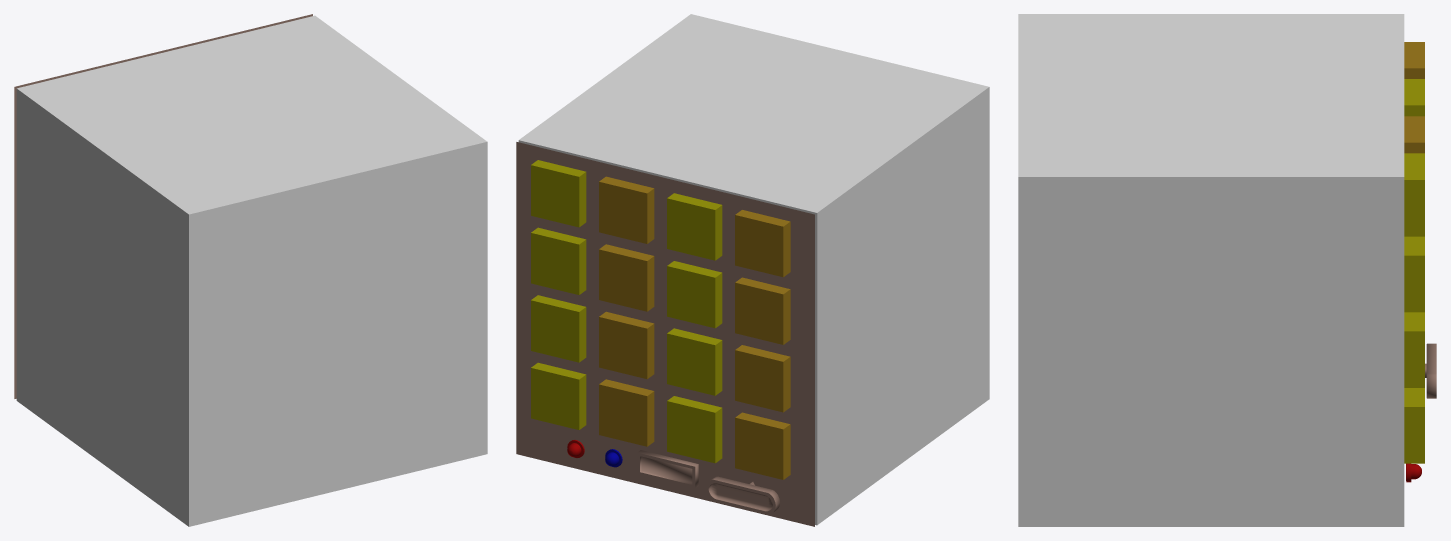
Rendered from Pipe Puzzle_P1 Box_02.FBX.
3 views of the same model, side by side, from view 1: azimuth 30°, elevation 25°; view 2: azimuth 150°, elevation 25°; view 3: azimuth 270°, elevation 25° (orthographic). The views are drawn at different scales.
Visible parts, largest first — view 1: Box Size001, Puzzle Plane 002; view 2: Box Size001, Puzzle Plane 002, pipe button 07, pipe button 12, pipe button 06, pipe button 10, pipe button 02, pipe button 14, pipe button 15, pipe button 01, pipe button 03, pipe button 04 (+8 smaller); view 3: Box Size001, pipe button 04, pipe button 03, pipe button 01, pipe button 02, pipe button 08, pipe button 12, pipe button 16, SOLVE 001.
Part boxes in pixels (left/top/right/bottom): Box Size001: left=16, top=15, right=487, bottom=526; Puzzle Plane 002: left=14, top=14, right=312, bottom=398; Box Size001: left=518, top=14, right=989, bottom=525; Puzzle Plane 002: left=516, top=142, right=814, bottom=526; pipe button 07: left=599, top=244, right=654, bottom=311; pipe button 12: left=667, top=193, right=722, bottom=260; pipe button 06: left=599, top=311, right=654, bottom=379; pipe button 10: left=667, top=328, right=722, bottom=395; pipe button 02: left=531, top=295, right=586, bottom=362; pipe button 14: left=735, top=345, right=790, bottom=412; pipe button 15: left=735, top=277, right=790, bottom=344; pipe button 01: left=531, top=362, right=586, bottom=429; pipe button 03: left=531, top=227, right=586, bottom=294; pipe button 04: left=531, top=160, right=586, bottom=227; Box Size001: left=1018, top=14, right=1404, bottom=526; pipe button 04: left=1404, top=153, right=1424, bottom=236; pipe button 03: left=1404, top=236, right=1424, bottom=312; pipe button 01: left=1404, top=388, right=1424, bottom=463; pipe button 02: left=1404, top=312, right=1424, bottom=387; pipe button 08: left=1404, top=116, right=1424, bottom=153; pipe button 12: left=1404, top=79, right=1424, bottom=116; pipe button 16: left=1404, top=42, right=1424, bottom=78; SOLVE 001: left=1425, top=343, right=1436, bottom=398.
Bounding box in the file's own units: 118 × 118 × 128.
